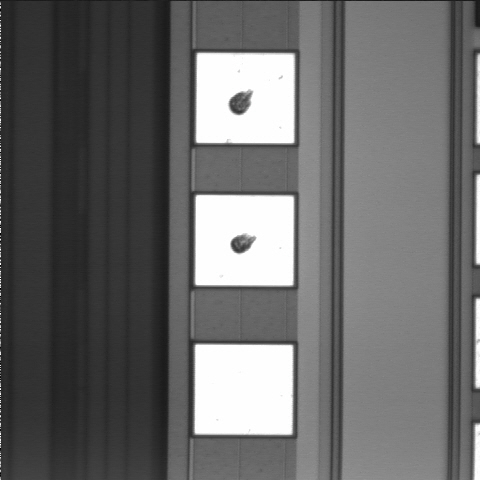pad: (195, 195, 294, 286), (196, 53, 294, 143), (195, 345, 293, 435)
